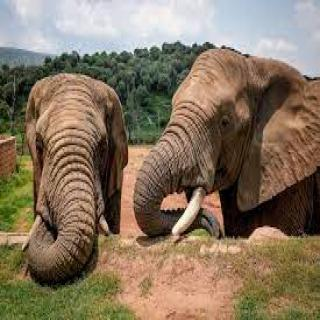Elephant: (132, 33, 320, 262), (19, 68, 130, 290)
